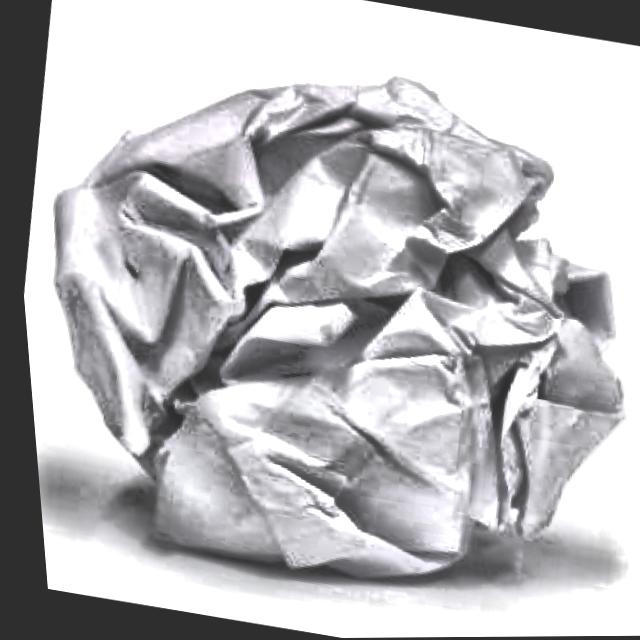Paper: (1, 4, 640, 640)
